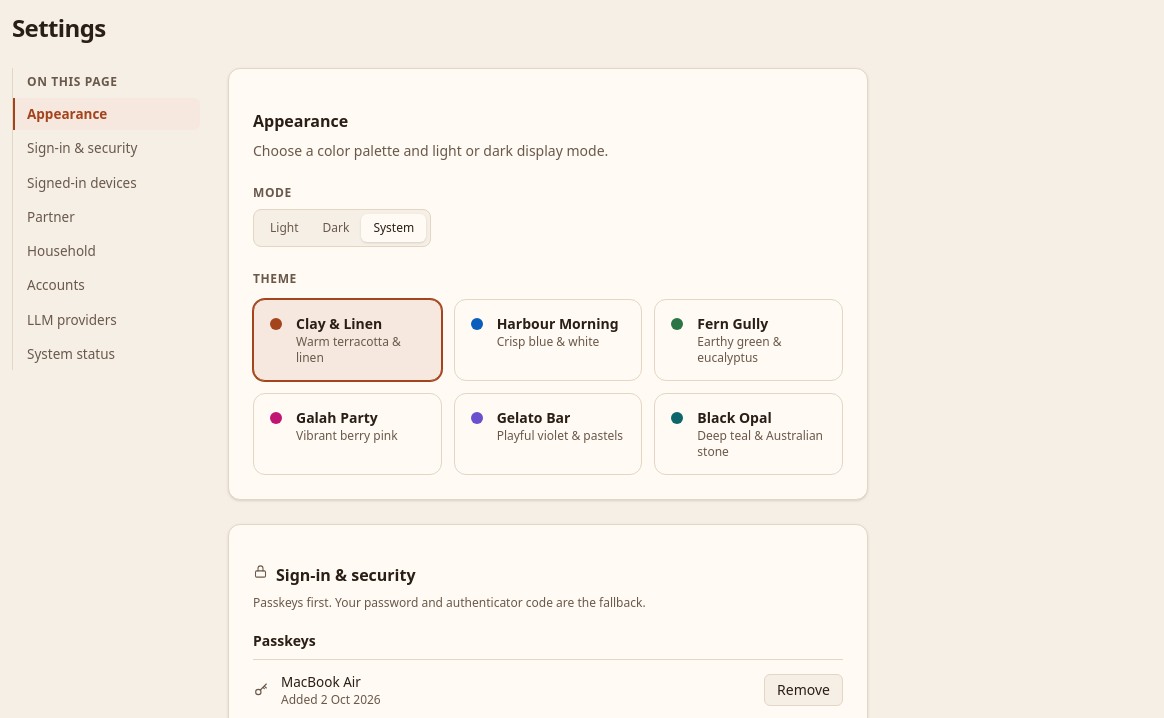
Test case: SettingsPage › displays passkey error if passkey removal fails
Check: the text "MacBook Air" is shown, box [281,673,361,691]
Click the button with aria-label "Remove passkey MacBook Air".
click(804, 690)  # box [764,674,843,706]
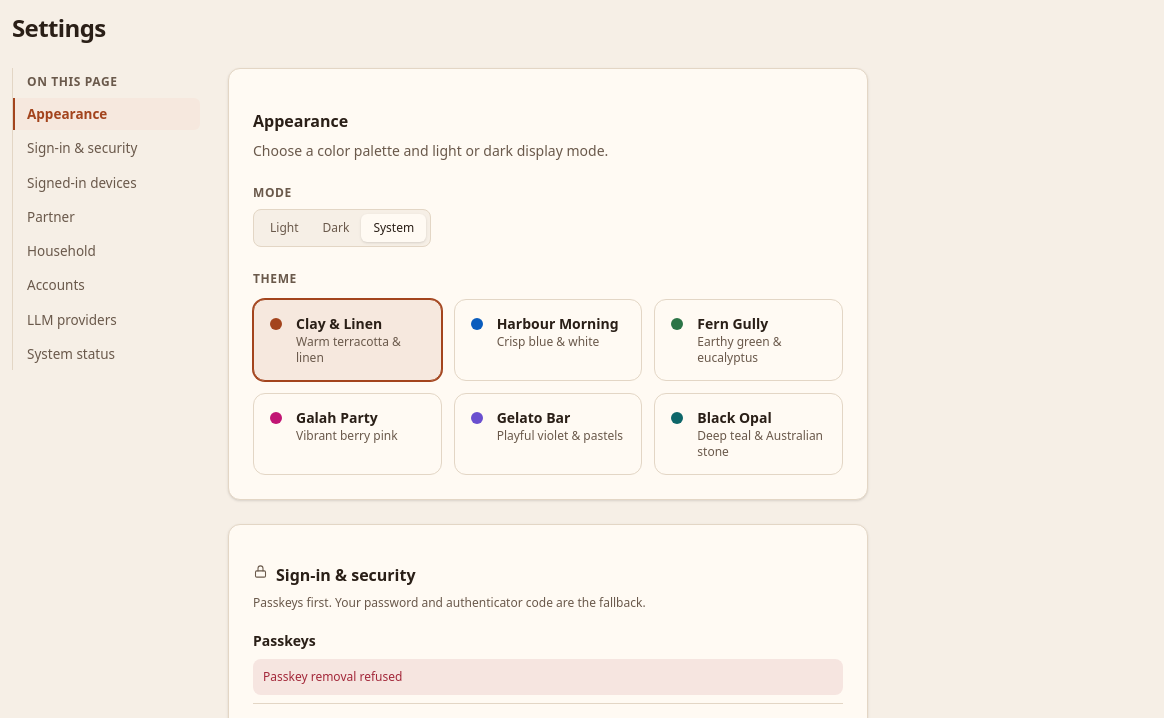
Check: the text "Passkey removal refused" is shown, box [253,659,843,695]
